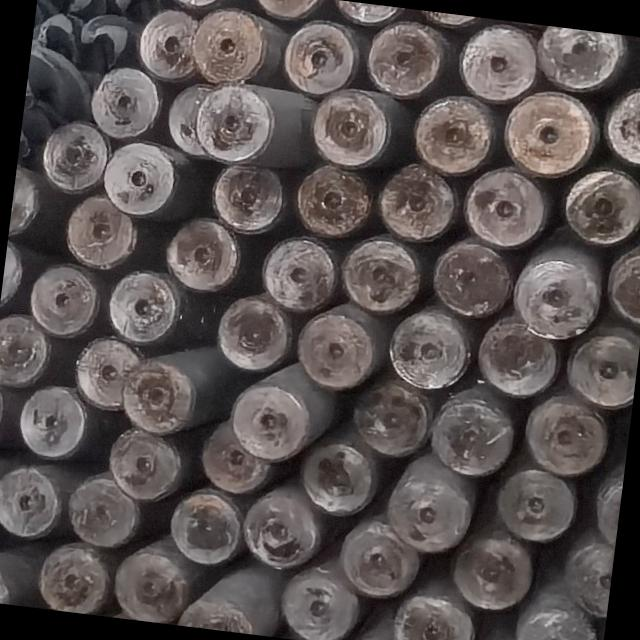tool: (218, 363, 328, 472), (510, 233, 608, 339), (384, 450, 478, 556), (498, 85, 596, 178), (426, 378, 518, 477), (180, 552, 288, 636), (332, 374, 435, 461), (294, 299, 387, 395), (438, 526, 538, 614), (190, 0, 290, 86), (384, 304, 476, 394), (236, 482, 326, 572), (426, 231, 518, 319), (110, 532, 196, 626), (459, 160, 550, 248), (520, 388, 610, 476), (472, 308, 560, 398), (210, 288, 300, 376), (554, 163, 640, 254), (451, 17, 540, 104), (407, 90, 497, 176), (290, 432, 380, 518), (310, 89, 400, 175), (360, 15, 448, 101), (48, 188, 138, 272), (102, 264, 192, 348), (336, 228, 424, 313), (156, 484, 244, 569), (334, 516, 423, 600), (114, 354, 203, 438), (275, 557, 363, 640), (286, 158, 376, 239), (532, 24, 636, 94), (24, 534, 114, 614), (376, 160, 461, 244), (564, 317, 640, 409), (492, 464, 578, 544), (256, 232, 339, 314), (280, 16, 366, 95), (102, 139, 182, 222), (66, 470, 146, 550), (16, 381, 92, 462), (70, 330, 146, 410), (104, 426, 184, 502), (194, 84, 276, 158), (84, 61, 160, 140), (40, 119, 112, 200), (207, 161, 284, 236), (29, 262, 102, 341), (0, 459, 64, 544), (195, 425, 271, 496), (558, 526, 616, 616), (170, 216, 238, 292), (134, 8, 200, 86), (507, 589, 604, 640), (391, 587, 478, 640), (0, 312, 51, 389), (602, 234, 640, 328), (586, 456, 626, 542), (602, 79, 640, 163), (8, 161, 45, 242), (0, 238, 27, 324), (327, 0, 406, 29), (244, 0, 325, 21), (160, 0, 236, 14), (0, 369, 8, 451), (631, 36, 640, 88)
tool_b: (22, 44, 96, 126), (70, 8, 143, 76), (35, 12, 81, 50), (38, 0, 120, 18), (109, 0, 164, 17)
